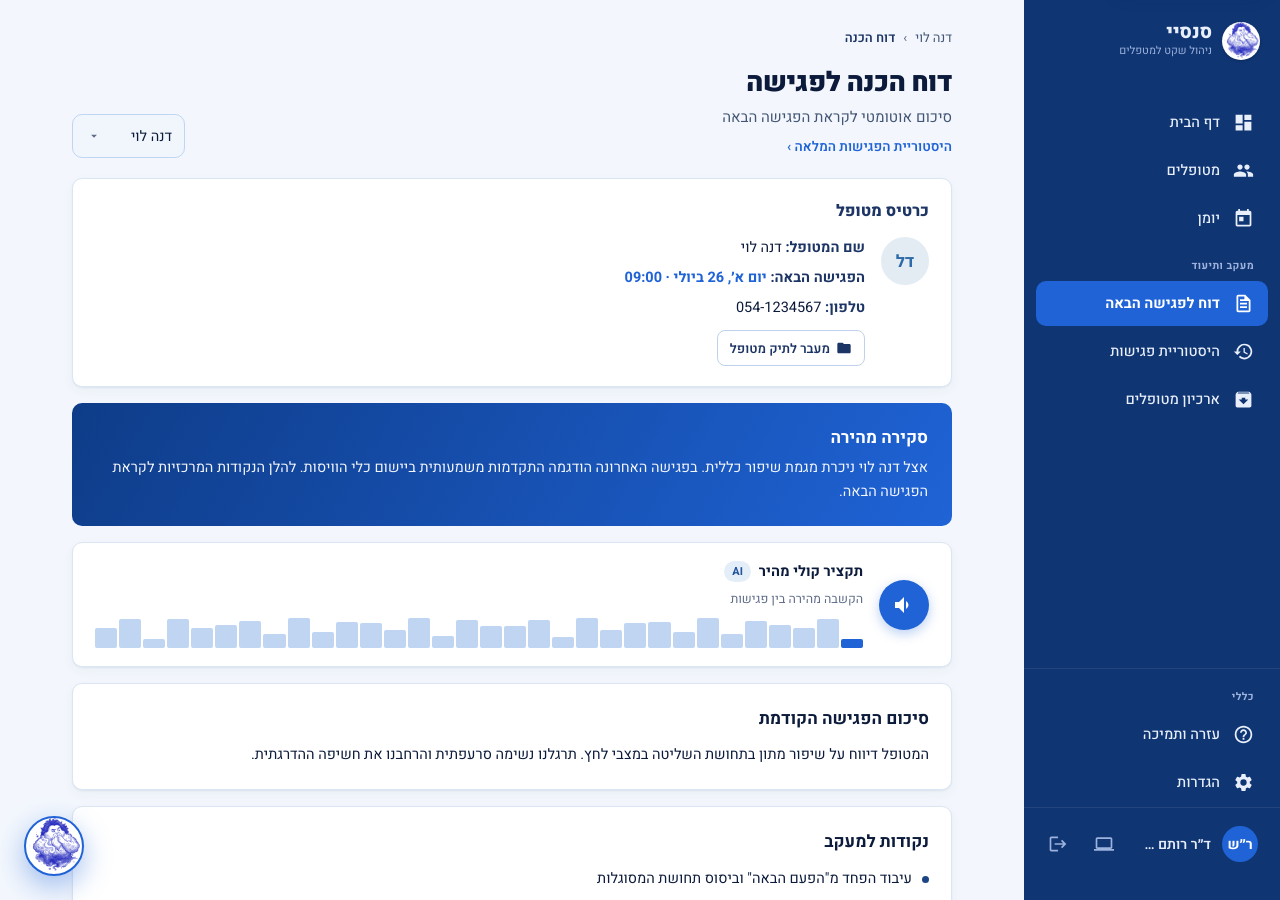
Scenario: prep report — onward navigation to meeting history › offers a full-history link that navigates to the patient meeting history page
The width and height of the screenshot is (1280, 900).
Click the button with class "rep-history-link" at point(870, 147), box [787,137,952,157]
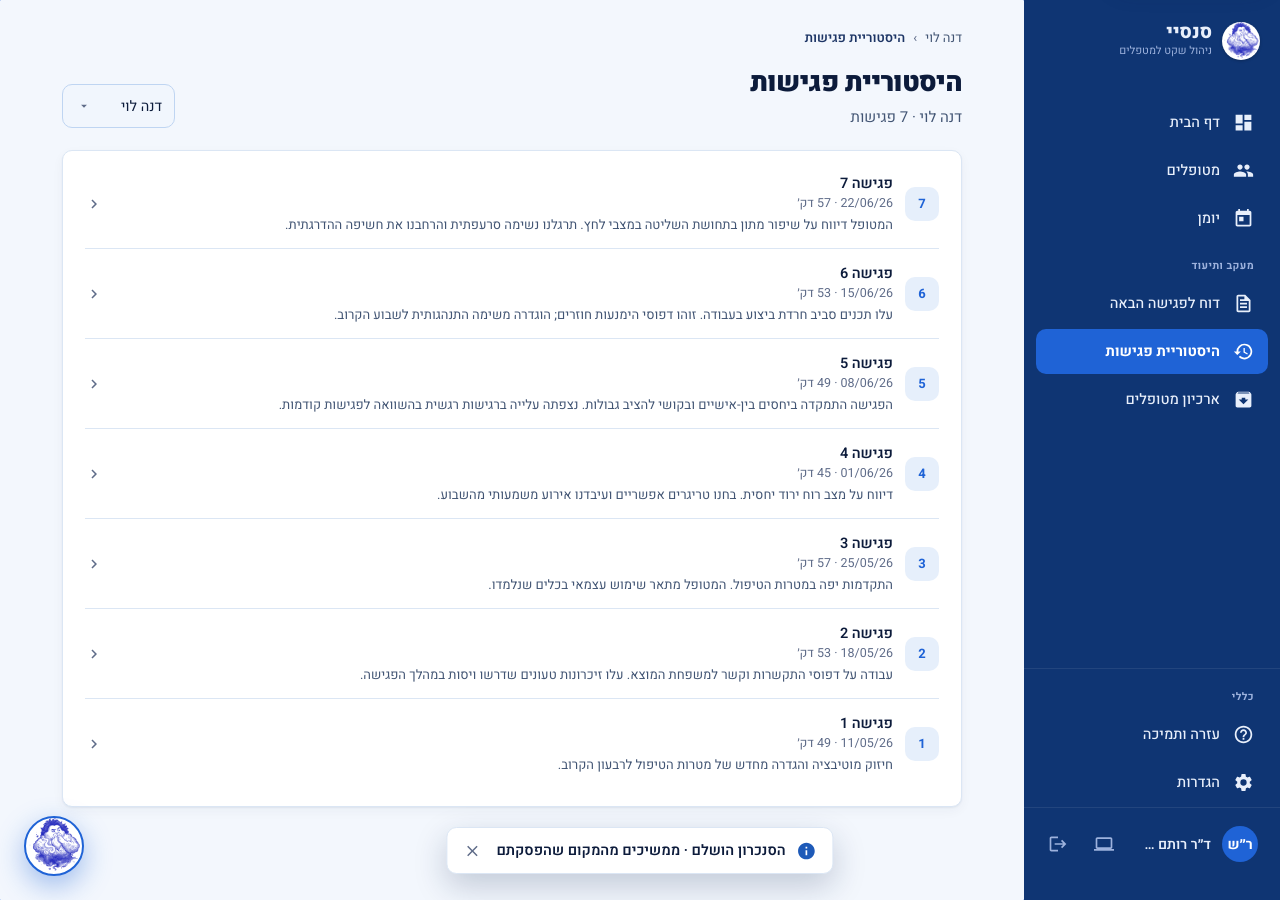
Expected: the heading "היסטוריית פגישות" is shown, [750,63,962,102]
